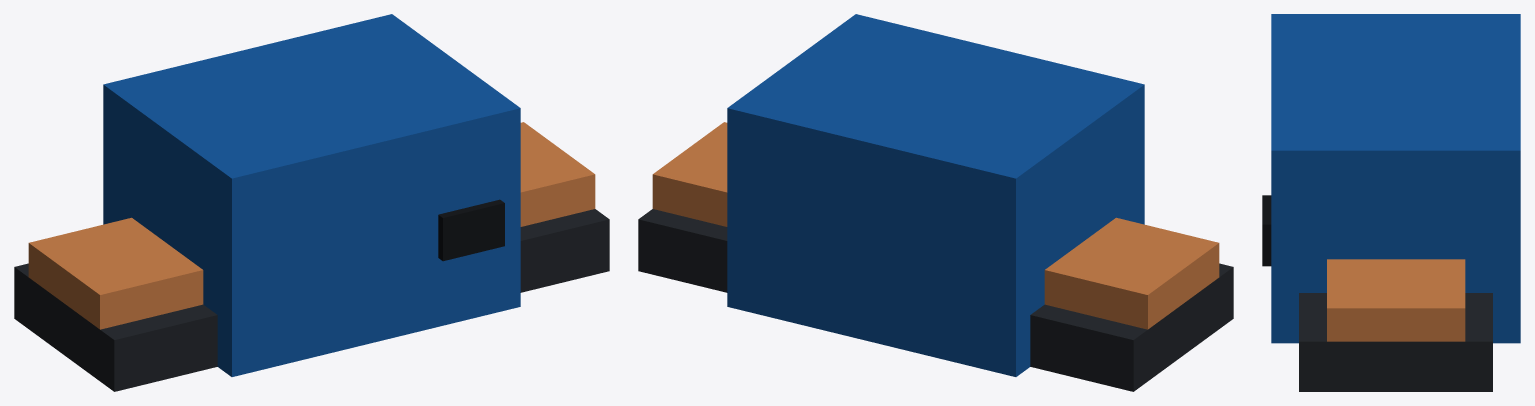
Rendered from victron_smartshunt_500a.far.glb.
The picture shows the model from 3 angles, left to right: view 1: azimuth 30°, elevation 25°; view 2: azimuth 150°, elevation 25°; view 3: azimuth 270°, elevation 25°; orthographic projection. The views are drawn at different scales.
Visible parts, largest first — view 1: victron_smartshunt_500a; view 2: victron_smartshunt_500a; view 3: victron_smartshunt_500a.
Boxes of the visible parts, bbox=[...] form: victron_smartshunt_500a: bbox=[14, 14, 609, 391]; victron_smartshunt_500a: bbox=[638, 14, 1233, 391]; victron_smartshunt_500a: bbox=[1262, 14, 1520, 391].
Size of the model in its own units: 0.12 by 0.046 by 0.056.
